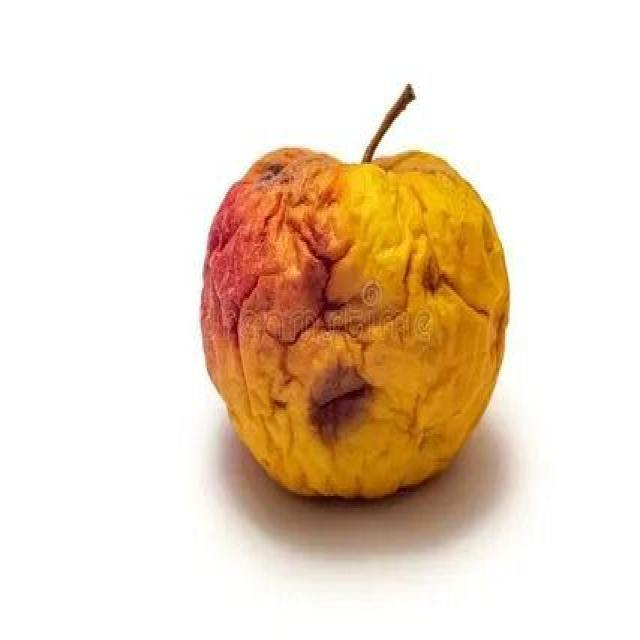Rotten: (205, 143, 500, 502)
